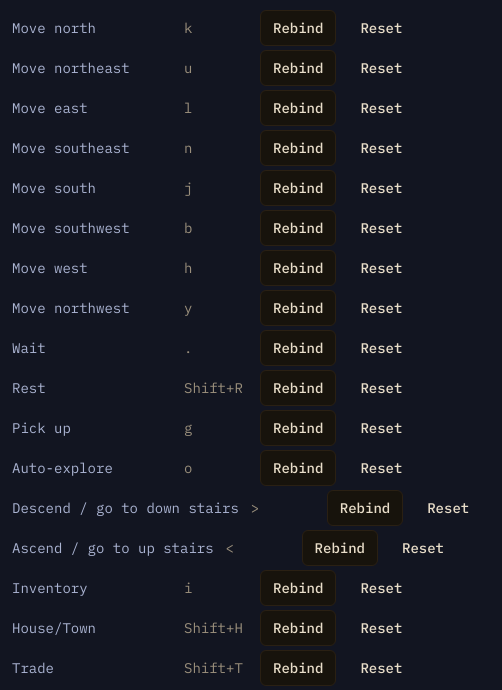
Test: SettingsOverlay (component-level) › Escape while capturing cancels the capture without committing a chord or closing (the row reverts to its Rebind button)
This screenshot has width=502, height=690.
(page scrolled)
Click the 9th button "Rebind" at (298, 348), box x1=260 y1=330 x2=336 y2=366
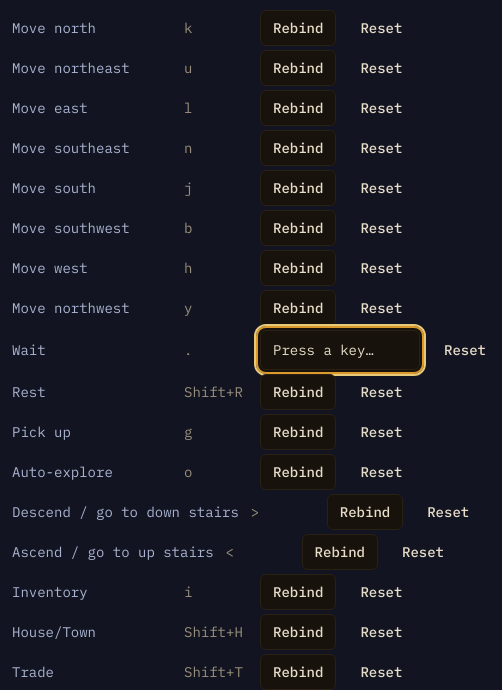
Press Escape
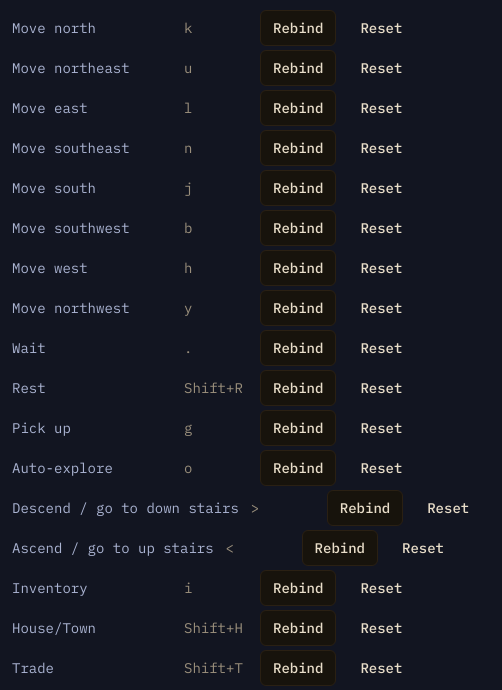
Result: the 9th button "Rebind" is shown at x1=260 y1=330 x2=336 y2=366
